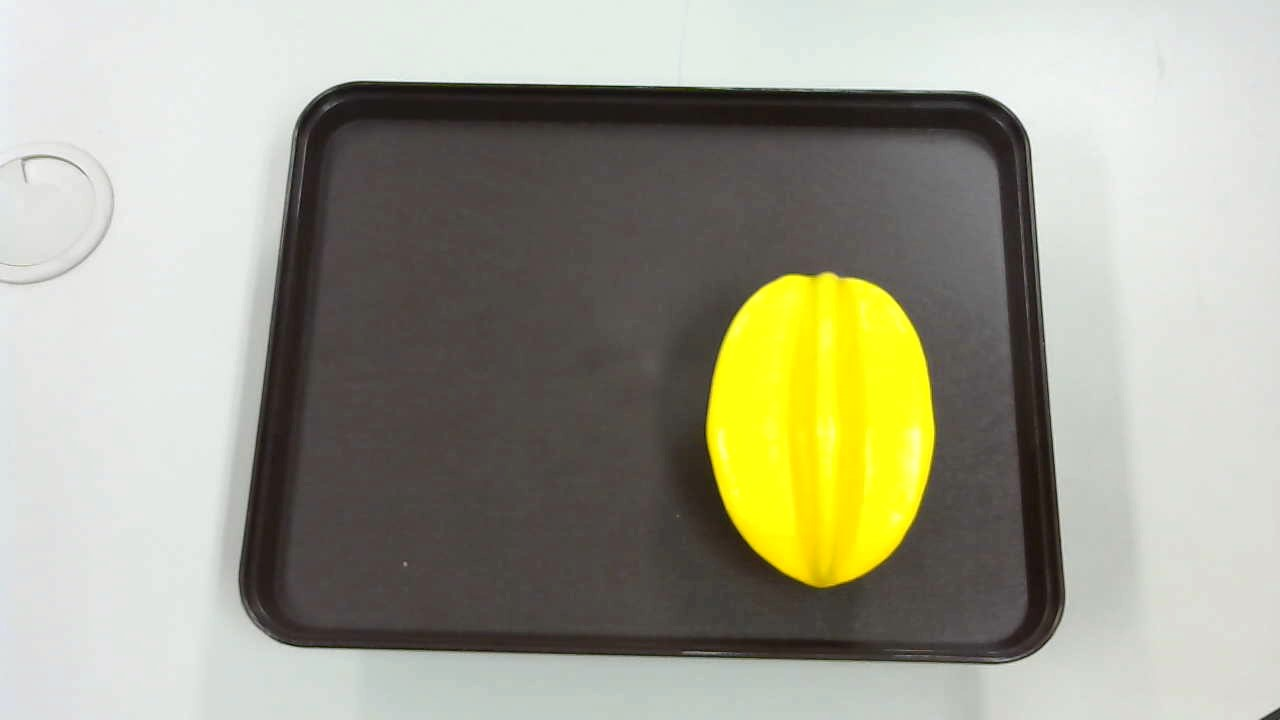star fruit: (703, 266, 940, 603)
